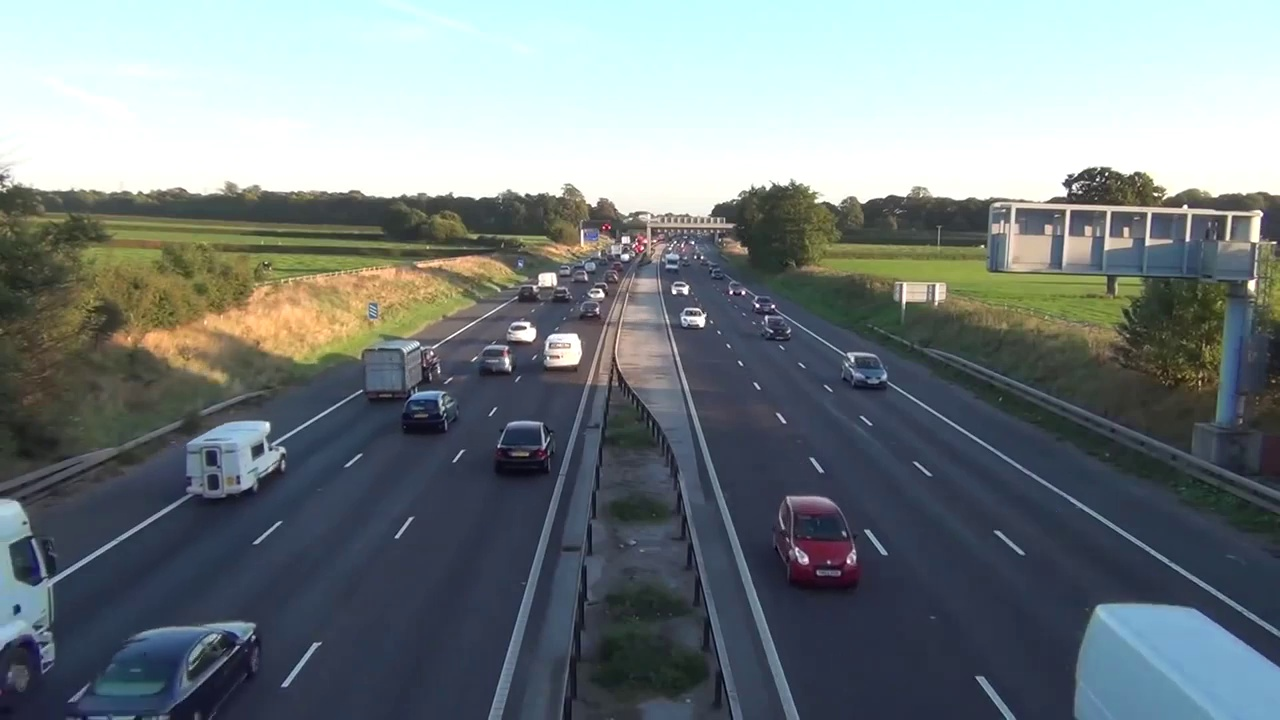bus: (66, 621, 262, 720), (771, 495, 861, 588), (187, 420, 288, 497), (362, 339, 441, 398), (494, 419, 554, 476), (400, 389, 461, 432), (840, 351, 888, 389), (544, 333, 582, 371), (482, 343, 514, 374), (760, 314, 792, 341), (507, 321, 538, 343), (679, 307, 707, 330), (751, 295, 777, 314), (579, 302, 601, 319), (728, 282, 748, 297), (670, 281, 689, 296)
